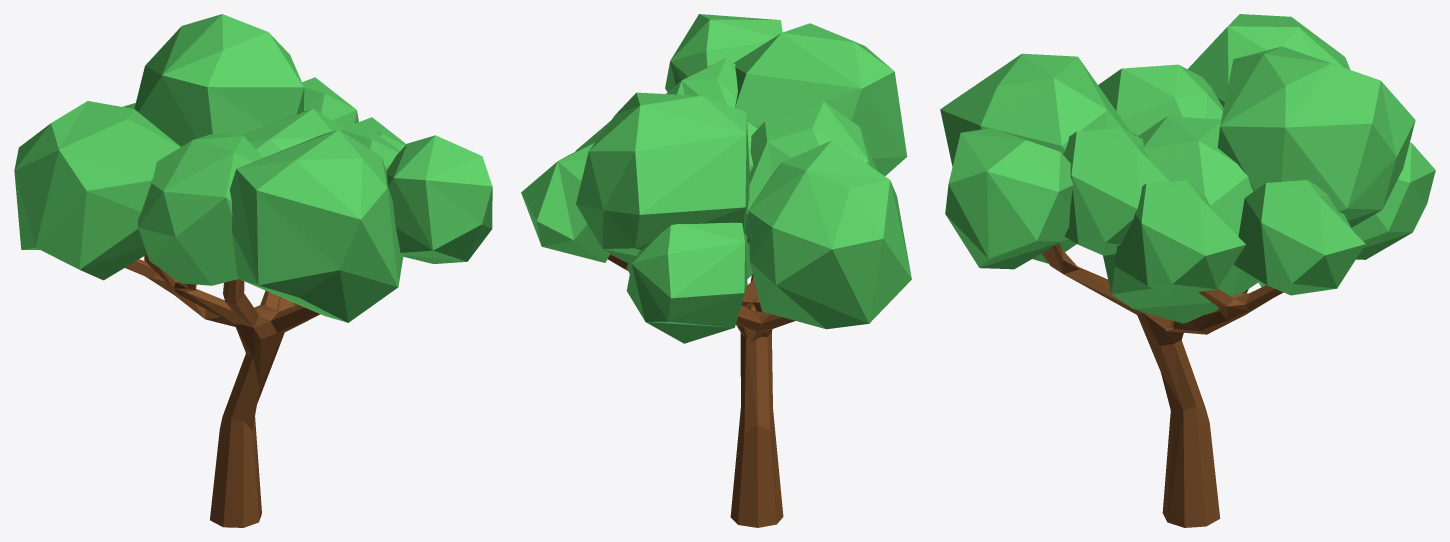
File: LowpolyTrees03.fbx
3 renders of one model, left to right at view 1: azimuth 30°, elevation 25°; view 2: azimuth 150°, elevation 25°; view 3: azimuth 270°, elevation 25°, orthographic. The views are drawn at different scales.
Parts seen in each view (by area): view 1: Tree03; view 2: Tree03; view 3: Tree03.
Boxes of the visible parts, x1,y1,x2,y2 form: Tree03: [14, 14, 492, 527]; Tree03: [521, 14, 911, 527]; Tree03: [940, 14, 1435, 527].
Size of what is drawn, in the model's own units: 648 by 783 by 733.
